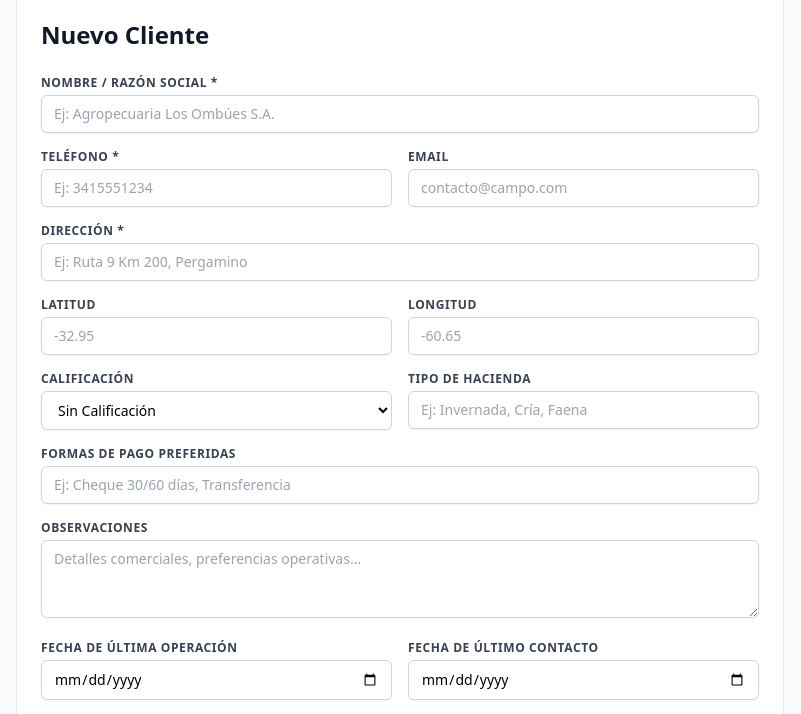
it: ClienteForm › falls back to default message "No se pudo guardar. Reintentá en un momento." on generic error
Type "Estancia Sol" into the field labelled "Nombre / Razón Social *".
click(400, 114); type("Estancia Sol")  # box [41, 95, 759, 133]
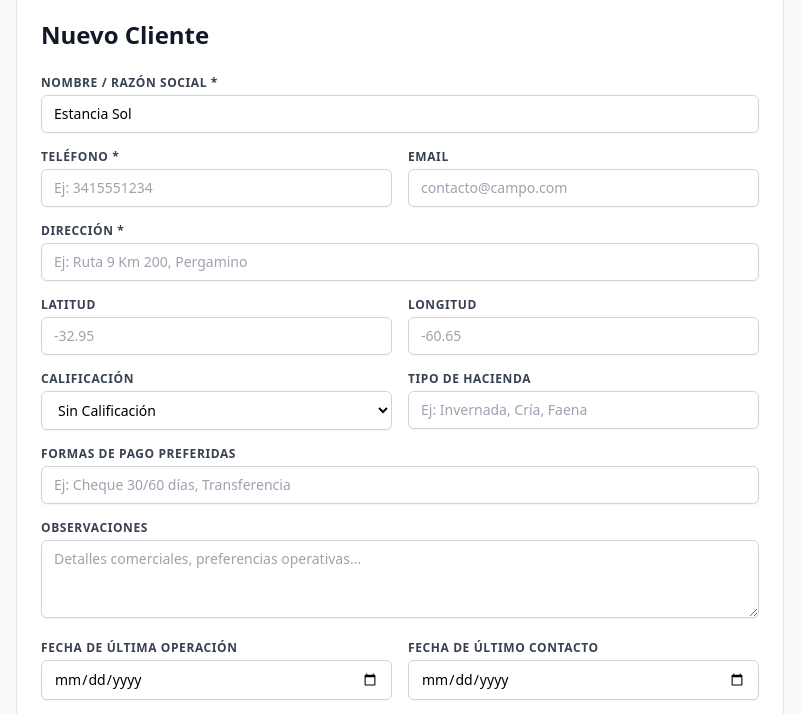
Type "3415551111" into the field labelled "Teléfono *".
click(216, 188); type("3415551111")  # box [41, 169, 392, 207]
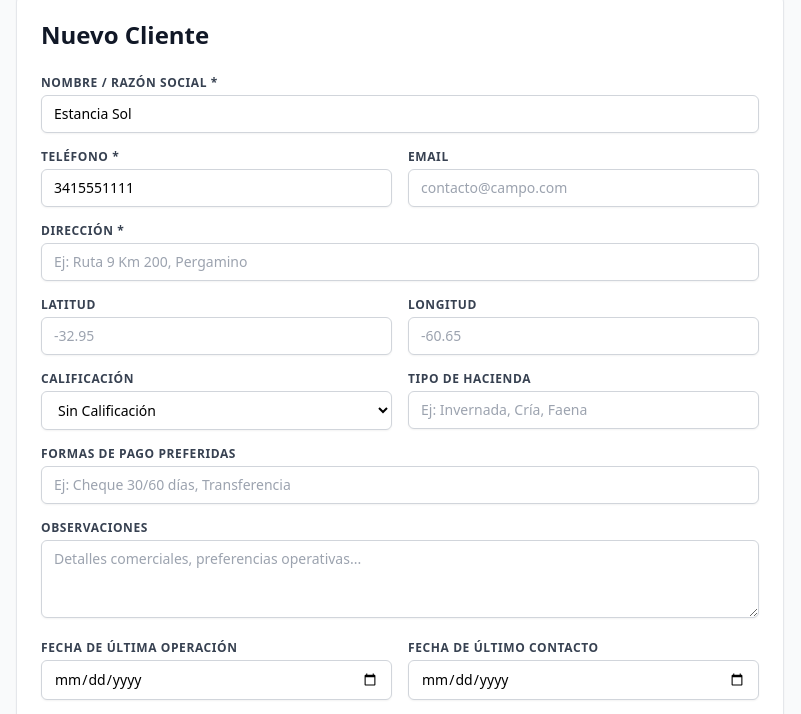
Type "Ruta 9 Km 5" into the field labelled "Dirección *".
click(400, 262); type("Ruta 9 Km 5")  # box [41, 243, 759, 281]
(page scrolled)
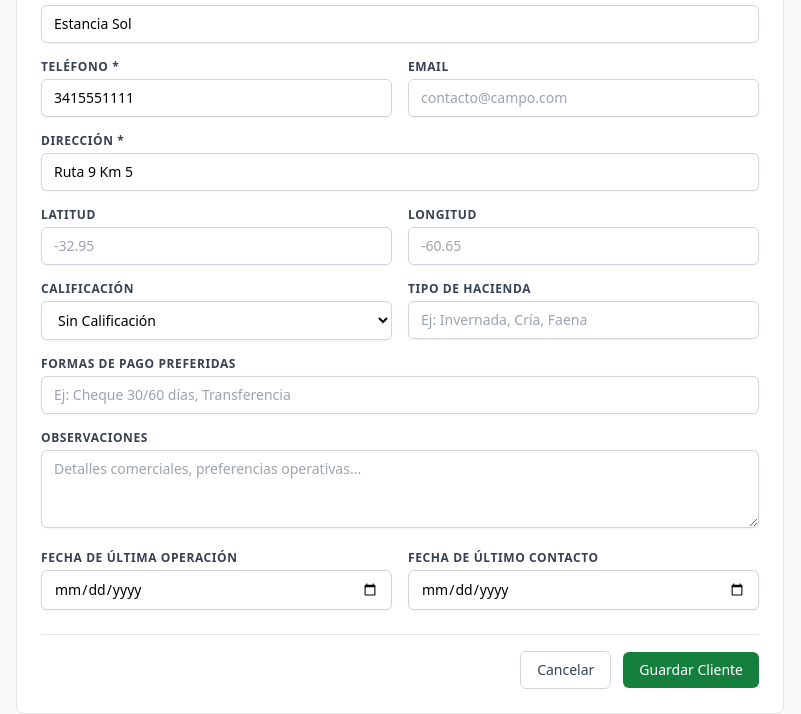
Click the button "Guardar Cliente".
click(691, 670)  # box [623, 652, 759, 688]
(page scrolled)
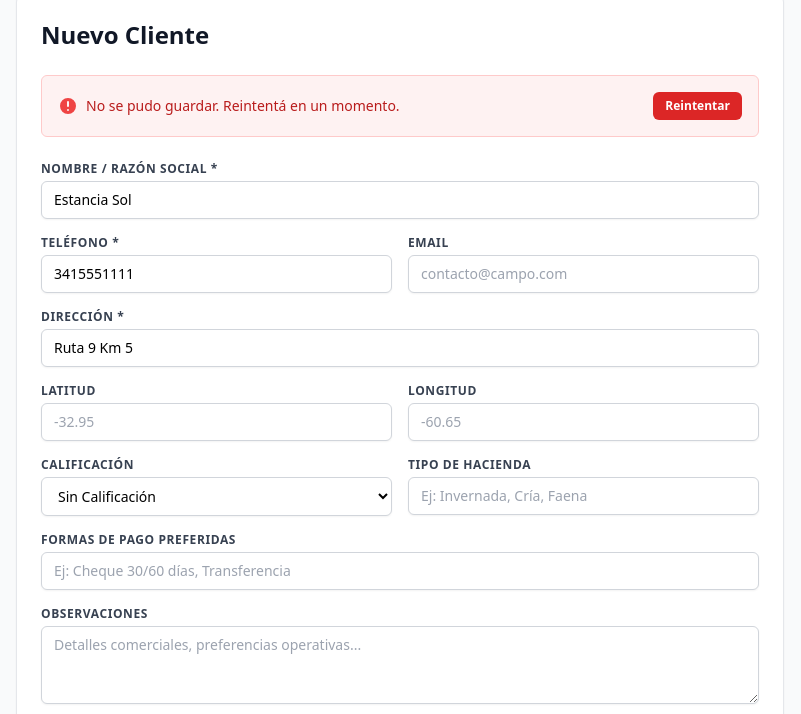
Check: the text "No se pudo guardar. Reintentá en un momento." is shown, box [86, 96, 400, 116]
